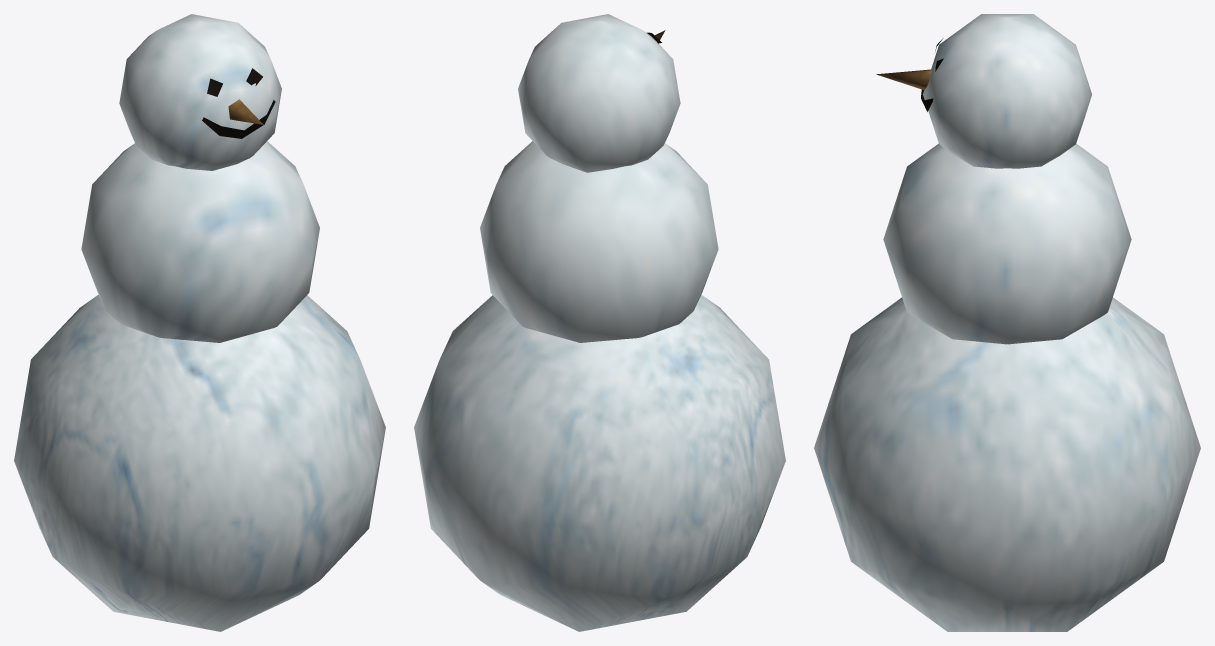
3 views of the same model, side by side, from view 1: azimuth 30°, elevation 25°; view 2: azimuth 150°, elevation 25°; view 3: azimuth 270°, elevation 25° (orthographic).
Parts seen in each view (by area): view 1: a68; view 2: a68; view 3: a68.
Part boxes in pixels (box(x1,y1,x2,y2)): a68: box(14, 14, 385, 631); a68: box(414, 14, 785, 631); a68: box(814, 14, 1200, 631).
Bounding box in the file's own units: 239 × 415 × 252.
